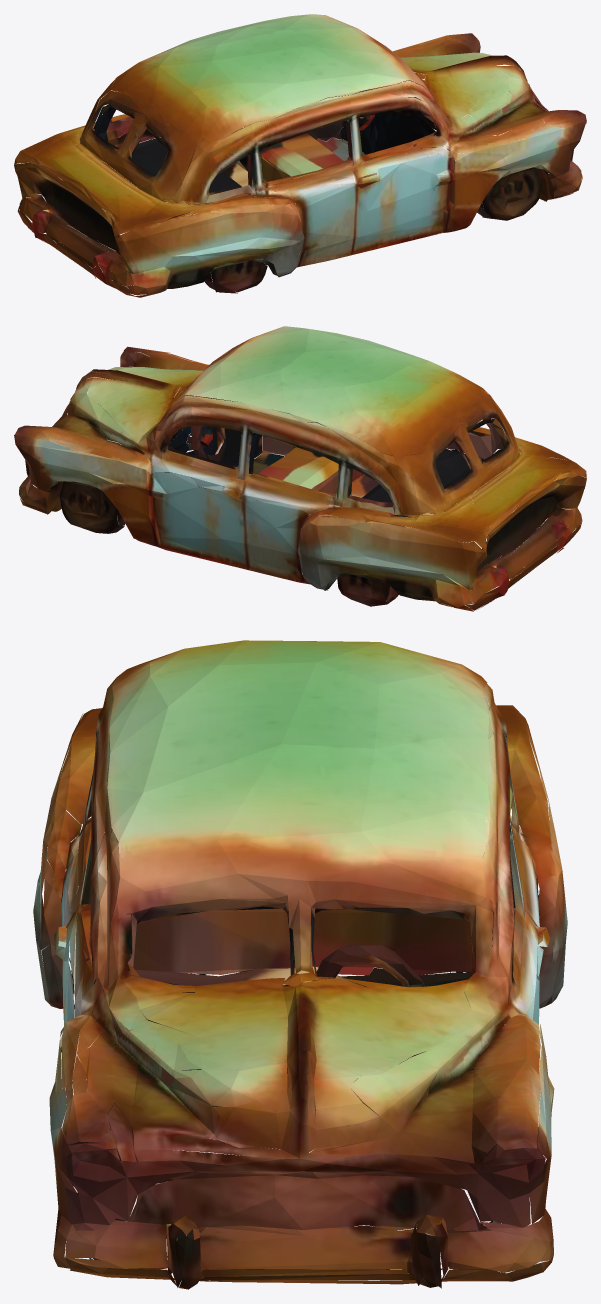
Rendered from rusted-sedan-wreck.glb.
3 views of the same model, one above another, from view 1: azimuth 30°, elevation 25°; view 2: azimuth 150°, elevation 25°; view 3: azimuth 270°, elevation 25° (orthographic). The views are drawn at different scales.
Visible parts, largest first — view 1: tmpqzhfh1ov.ply; view 2: tmpqzhfh1ov.ply; view 3: tmpqzhfh1ov.ply.
Boxes of the visible parts, bbox=[...] form: tmpqzhfh1ov.ply: bbox=[14, 14, 586, 297]; tmpqzhfh1ov.ply: bbox=[14, 326, 586, 611]; tmpqzhfh1ov.ply: bbox=[33, 640, 567, 1289].
Bounding box in the file's own units: 5 × 1.8 × 2.4.
Materials: 1 (1 with a texture image).
